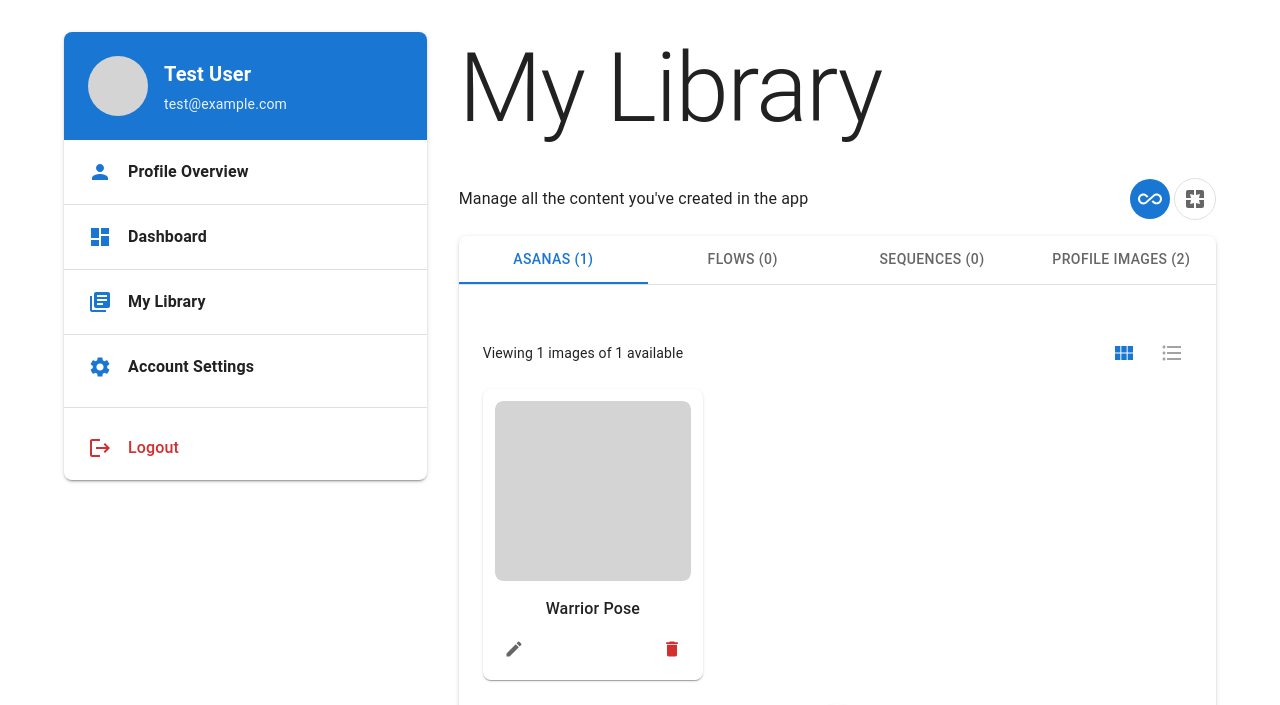
Test: LibraryPage - AsanaCard Delete Feature › should open confirmation dialog when delete icon is clicked
The width and height of the screenshot is (1280, 705).
Expected: the heading "Warrior Pose" is shown, [546,599,640,618]
Click the button named "delete".
click(672, 649)  # box [657,634,687,664]
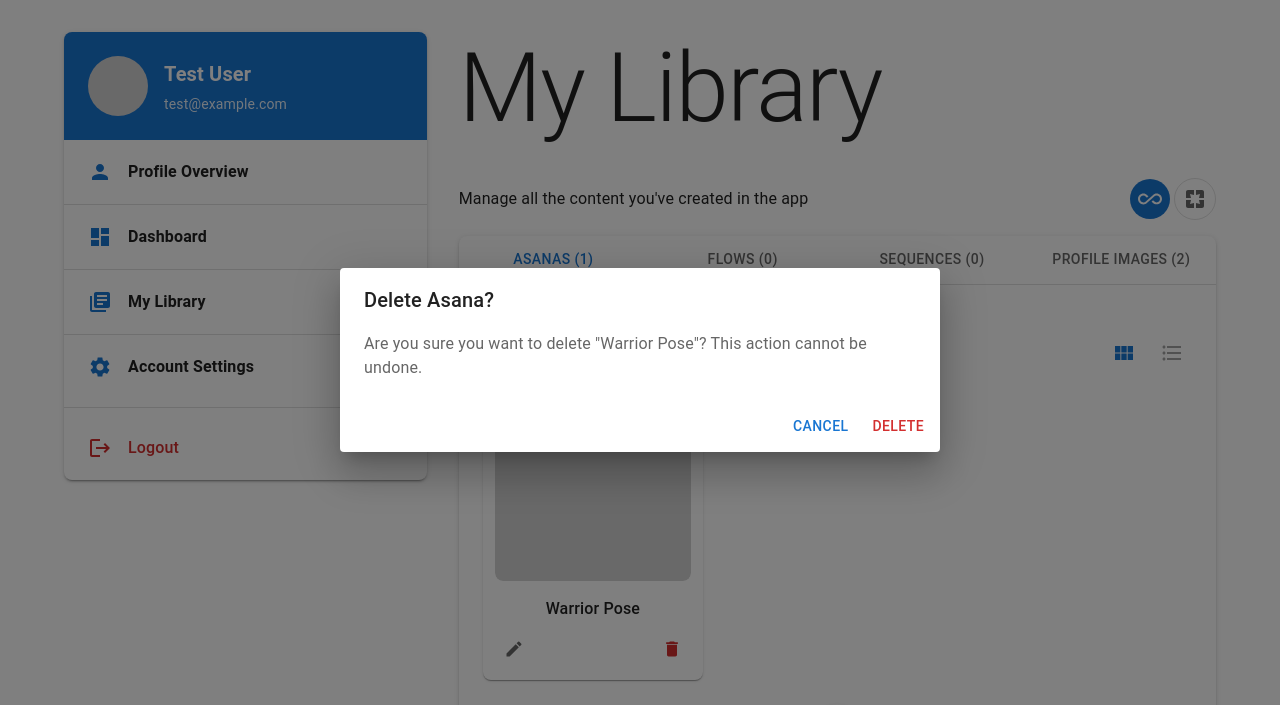
Expected: the heading "Delete Asana?" is shown, [364,288,494,312]
Expected: the text "Are you sure you want to delete \"Warrior Pose\"" is shown, [364,332,916,380]
